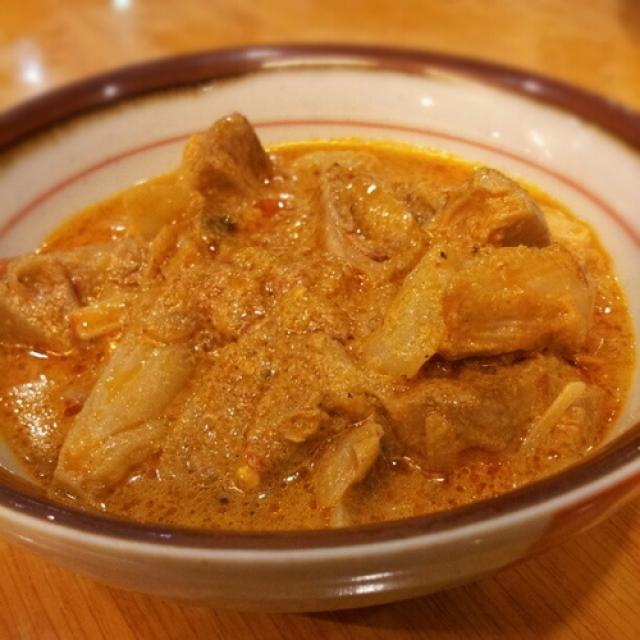熟制海鲜: (9, 45, 619, 589)
